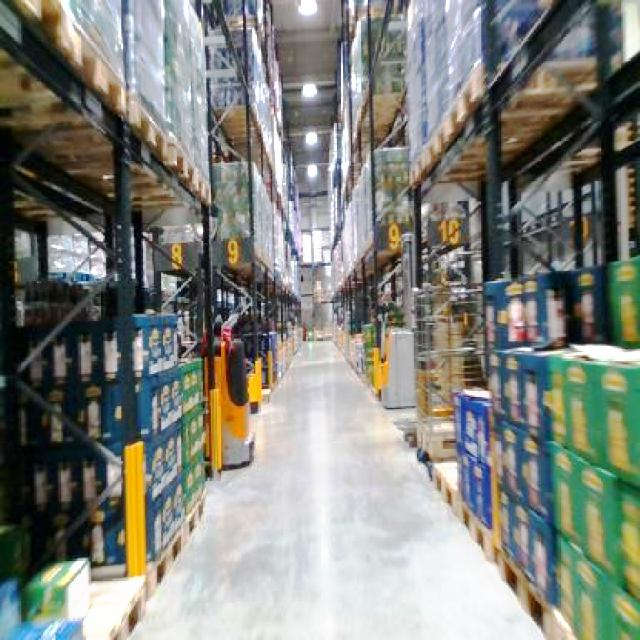ground: (98, 332, 566, 638)
pallet: (329, 0, 638, 638), (426, 251, 638, 638), (0, 303, 208, 638)
